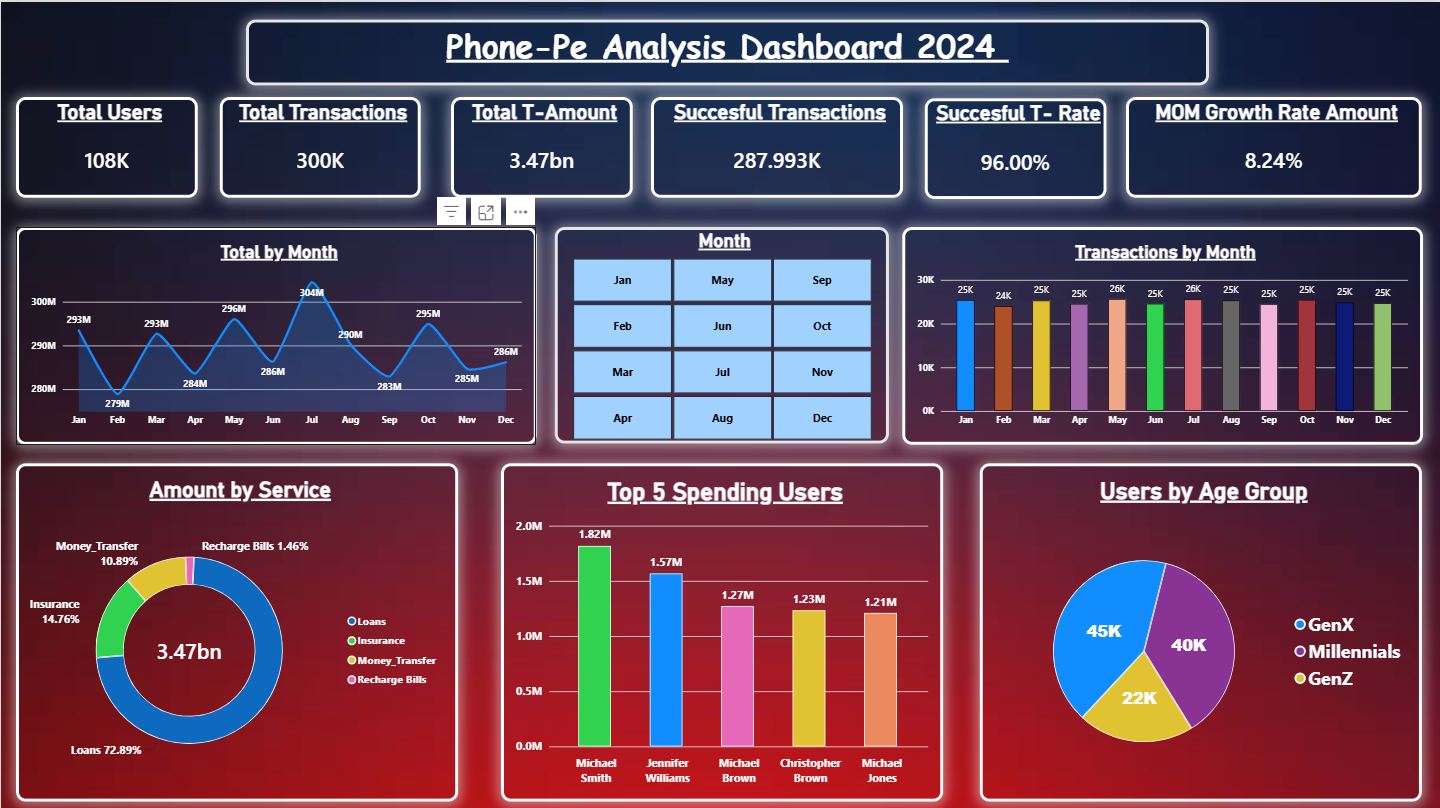

Layout of this report page (visuals, bound fields, positions):
{"tool":"powerbi","page":{"name":"Page 1","canvas":[1920,1080],"ordinal":0},"visuals":[{"type":"cardVisual","title":"Total Users","fields":{"Data":["Measure.Total users"]},"box":[20,126,242,134],"z":0},{"type":"cardVisual","title":"Succesful T- Rate","fields":{"Data":["Measure.Succesful Transactions rate"]},"box":[1232,128,242,134],"z":1000},{"type":"cardVisual","title":"Succesful Transactions","fields":{"Data":["Measure.Succesful Transactions"]},"box":[866,126,336,134],"z":2000},{"type":"cardVisual","title":"Total T-Amount","fields":{"Data":["Measure.Total Amount"]},"box":[600,126,242,134],"z":3000},{"type":"cardVisual","title":"Total Transactions","fields":{"Data":["Measure.Total Transaction"]},"box":[292,126,268,134],"z":4000},{"type":"cardVisual","title":"MOM Growth Rate Amount","fields":{"Data":["Measure.MOM growth rate"]},"box":[1500,126,394,134],"z":5000},{"type":"textbox","box":[326,24,1284,88],"z":6000},{"type":"slicer","title":"Month","fields":{"Values":["Date_Table.Month"]},"box":[738.3,300.8,445.3,289.1],"z":7000},{"type":"areaChart","title":"Total by Month","fields":{"Category":["Date_Table.Month"],"Y":["Measure.Total Amount"]},"box":[19.5,300.8,694,290],"z":8000},{"type":"clusteredColumnChart","title":"Transactions by Month","fields":{"Category":["Date_Table.Month"],"Y":["Measure.Total Transaction"]},"box":[1201.2,300.8,694,290],"z":8001},{"type":"donutChart","title":"Amount by Service","fields":{"Category":["All_Transactions.Service"],"Y":["Measure.Total Amount"]},"box":[19.5,615.3,589.9,451.2],"z":8002},{"type":"columnChart","title":"Top 5 Spending Users ","fields":{"Category":["All_Users.Name"],"Y":["Measure.Total Amount"]},"box":[666,615.3,589.9,451.2],"z":8003},{"type":"pieChart","title":"Users by Age Group","fields":{"Category":["All_Users.Age Group "],"Y":["Measure.Total users"]},"box":[1304.7,615.3,589.9,451.2],"z":8004}]}

Visuals, with their boxes in screenshot pixels (x1, y1, x2, y2), scaled from the page's 1920x1080 canvas onto the 1440x808 screenshot:
"Total Users" cardVisual: region(15, 94, 196, 195)
"Succesful T- Rate" cardVisual: region(924, 96, 1106, 196)
"Succesful Transactions" cardVisual: region(650, 94, 902, 195)
"Total T-Amount" cardVisual: region(450, 94, 632, 195)
"Total Transactions" cardVisual: region(219, 94, 420, 195)
"MOM Growth Rate Amount" cardVisual: region(1125, 94, 1420, 195)
textbox: region(244, 18, 1208, 84)
"Month" slicer: region(554, 225, 888, 441)
"Total by Month" areaChart: region(15, 225, 535, 442)
"Transactions by Month" clusteredColumnChart: region(901, 225, 1421, 442)
"Amount by Service" donutChart: region(15, 460, 457, 798)
"Top 5 Spending Users " columnChart: region(500, 460, 942, 798)
"Users by Age Group" pieChart: region(979, 460, 1421, 798)
